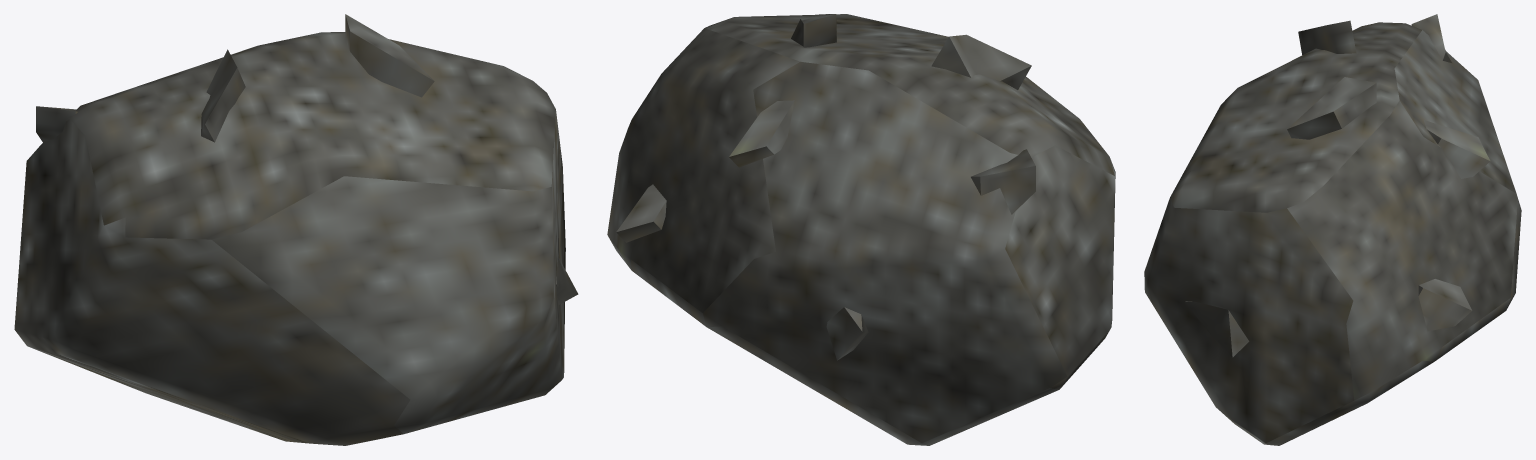
The model's file is IronOreNew.fbx.
The picture shows the model from 3 angles, left to right: view 1: azimuth 30°, elevation 25°; view 2: azimuth 150°, elevation 25°; view 3: azimuth 270°, elevation 25°; orthographic projection. The views are drawn at different scales.
Parts seen in each view (by area): view 1: Cube.003; view 2: Cube.003; view 3: Cube.003.
Boxes of the visible parts, box(x1,y1,x2,y2) form: Cube.003: box(14, 14, 578, 445); Cube.003: box(607, 14, 1115, 445); Cube.003: box(1144, 14, 1521, 445).
Bounding box in the file's own units: 197 × 149 × 149.
